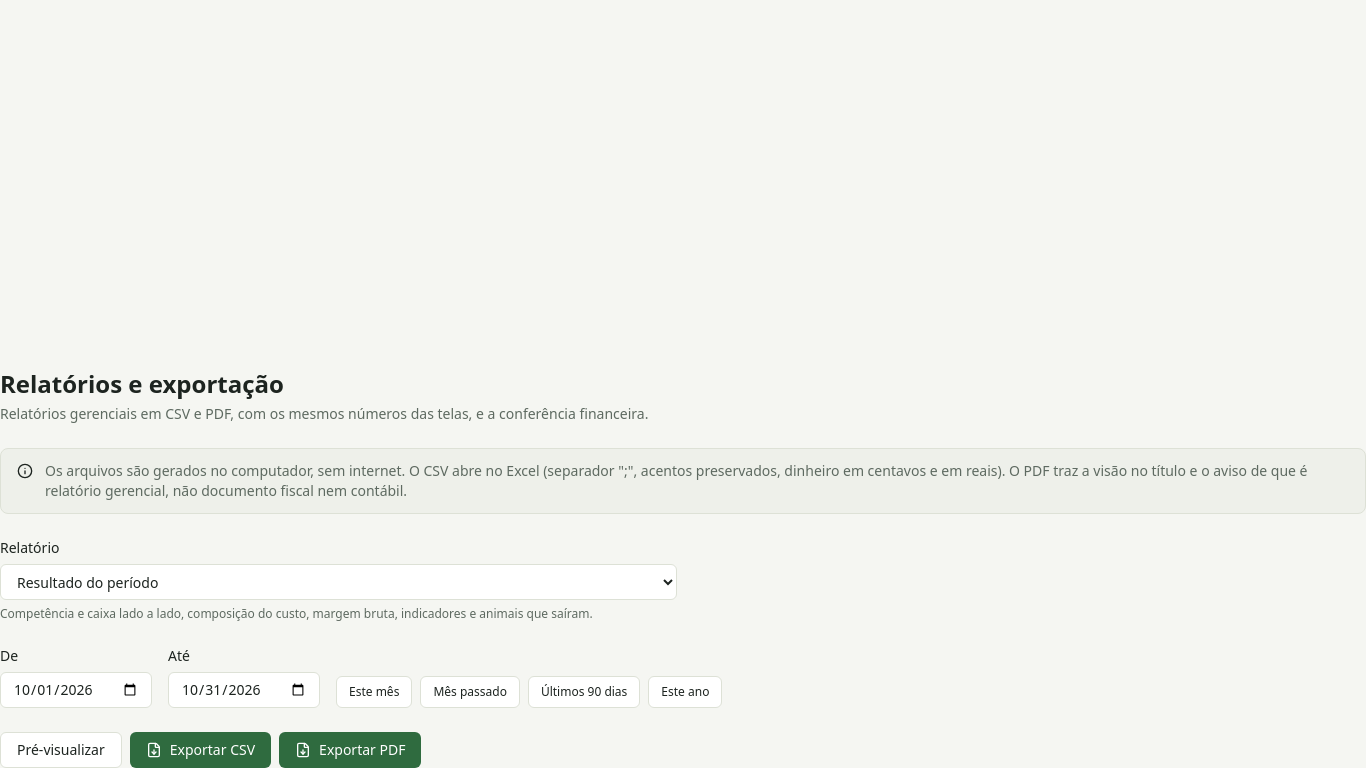
Test case: relatórios e exportação (tela) › pré-visualiza o mesmo modelo do arquivo: valor ausente é "Sem dado", nunca R$ 0,00
This screenshot has width=1366, height=768.
(page scrolled)
Select "Lançamentos do período" in the dropdown labelled "Relatório" at (338, 582), box [0, 564, 677, 600]
(page scrolled)
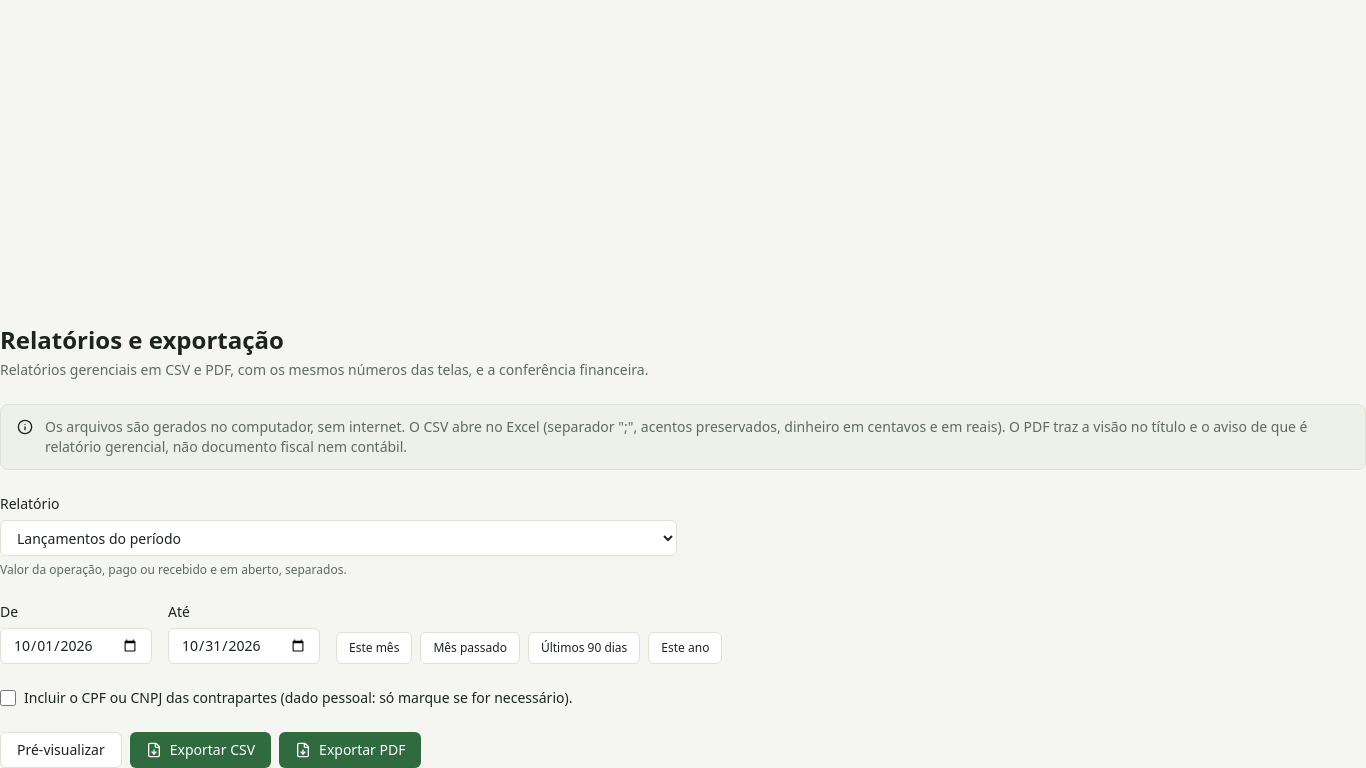
Click the button "Pré-visualizar" at (61, 750), box [0, 732, 122, 767]
(page scrolled)
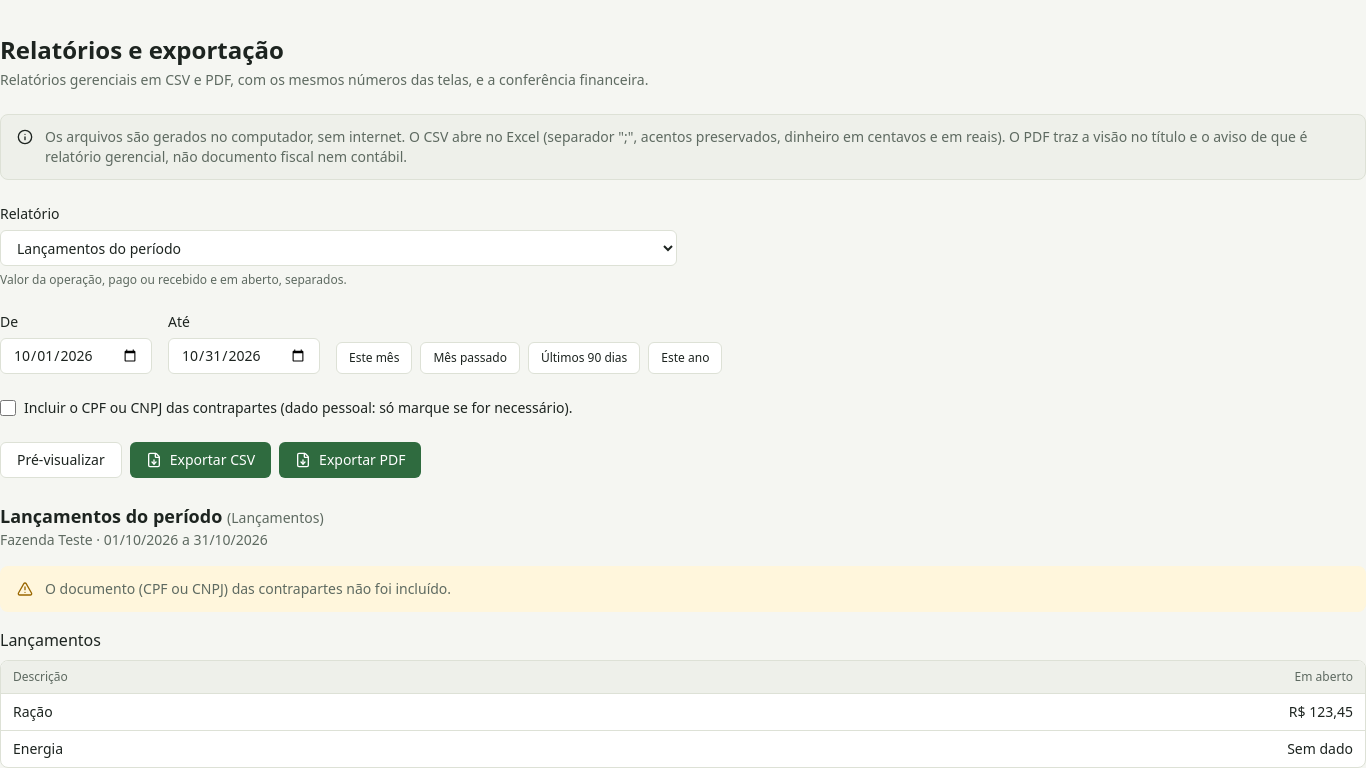
Expected: the heading "Lançamentos do período (Lançamentos)" is shown, [0, 504, 324, 528]
Expected: the text "Sem dado" is shown, [638, 730, 1365, 767]
Expected: the text "R$ 123,45" is shown, [638, 694, 1365, 730]
